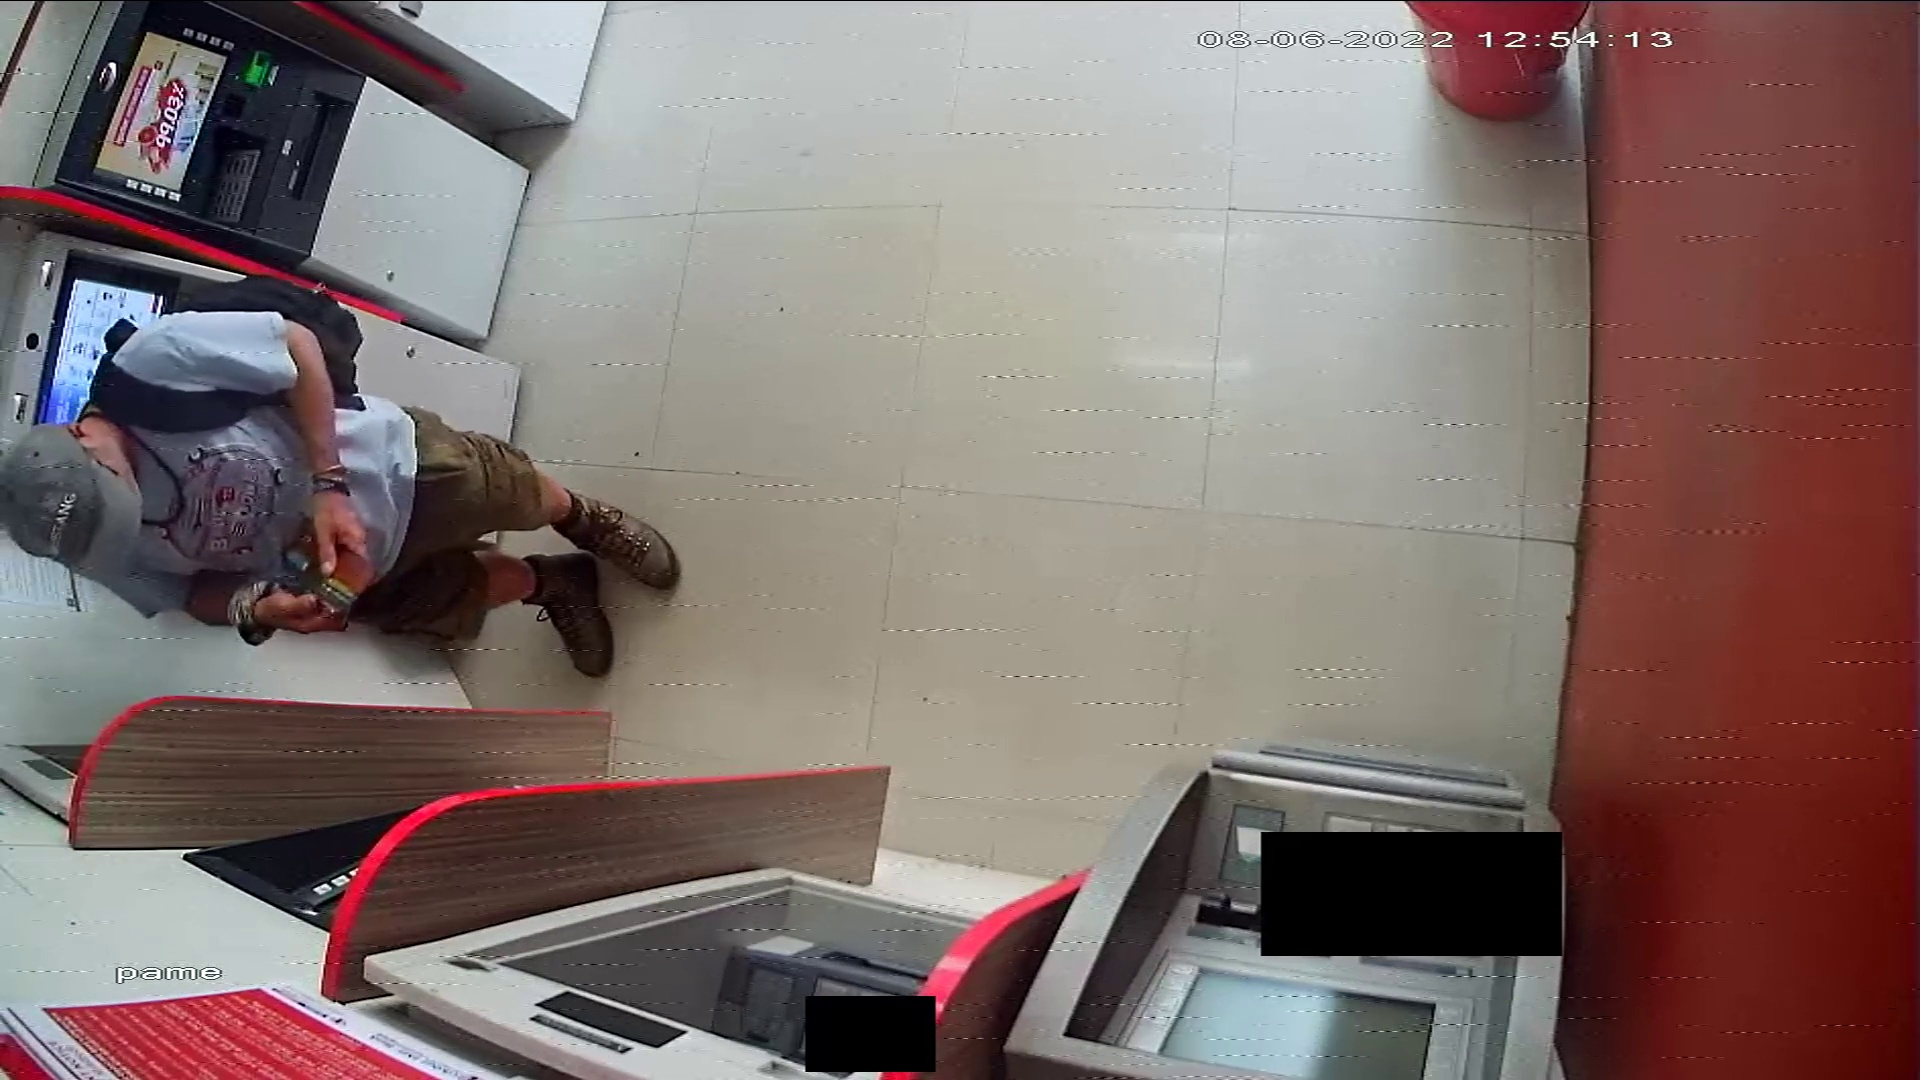person: (4, 311, 687, 681)
